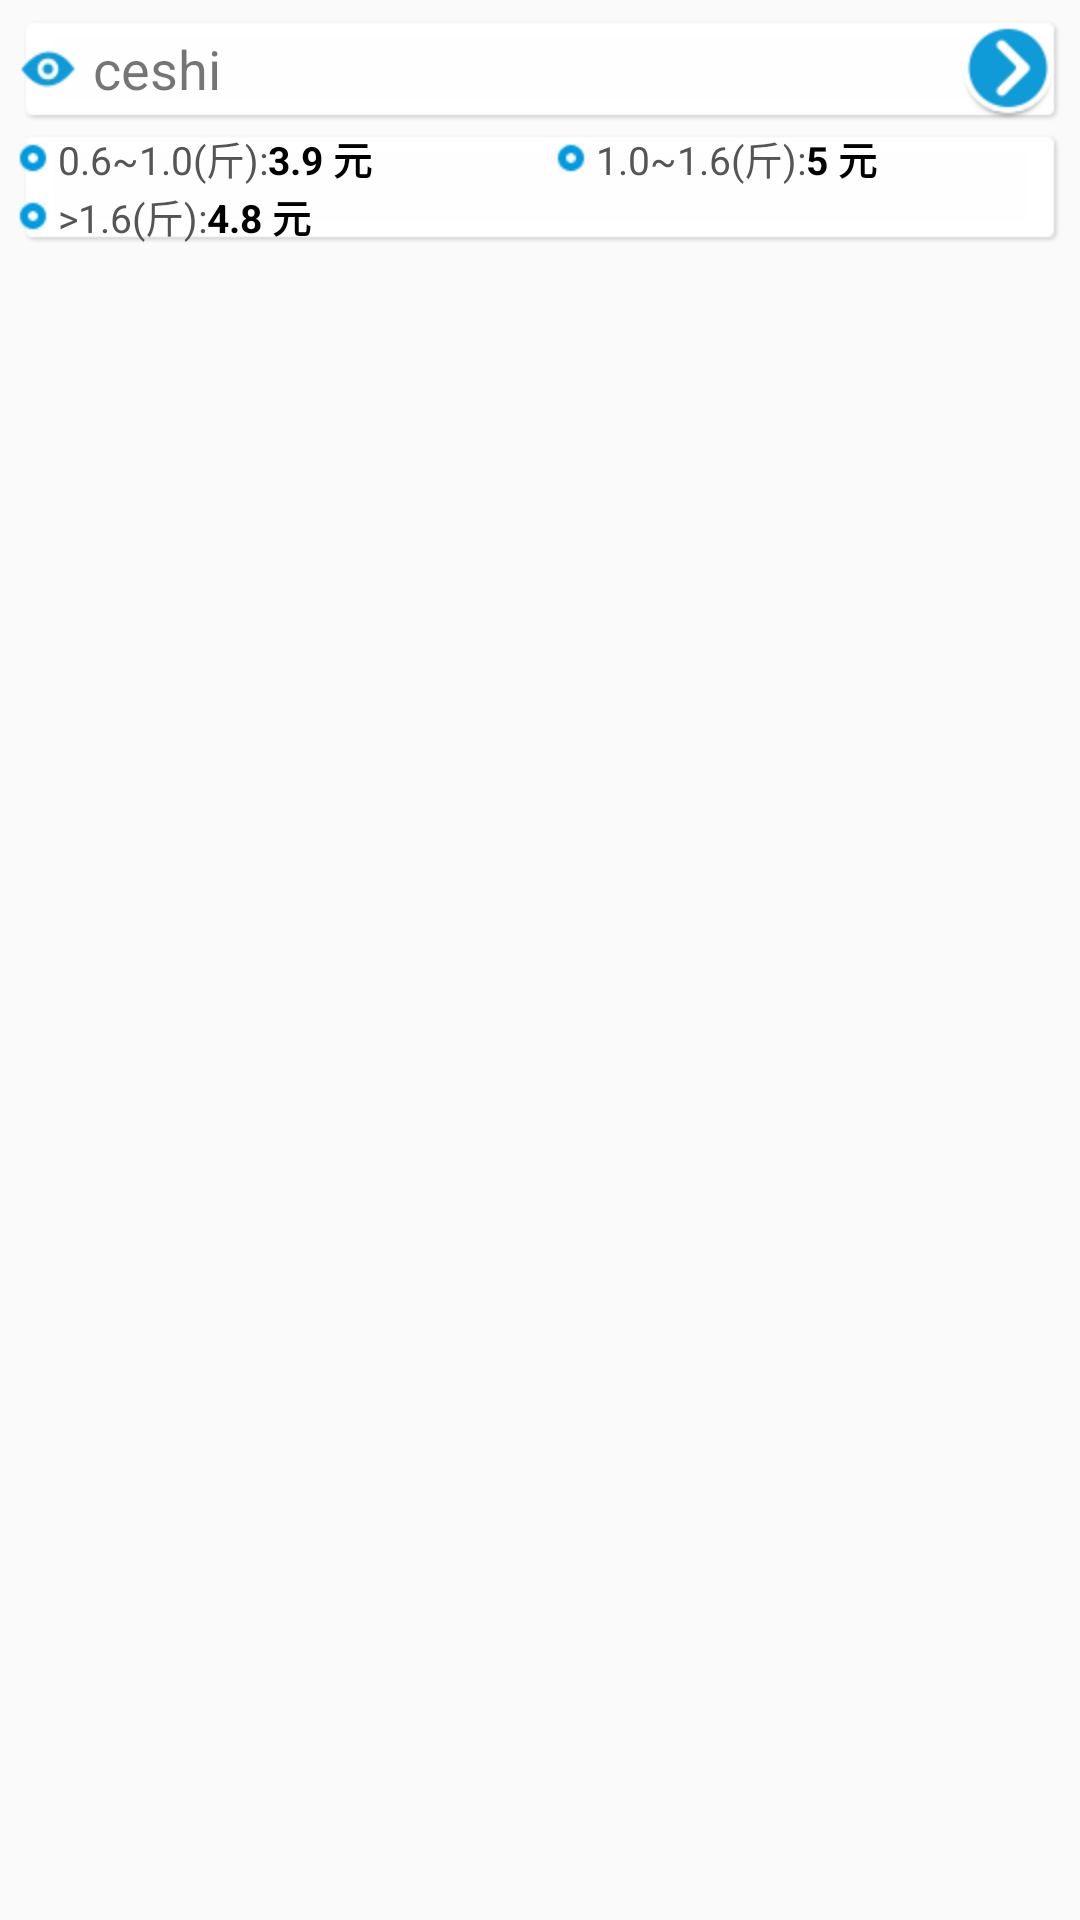

Where to tap for icons on this 1080 × 1920 app screen, as [x,y]:
circle: [33,158], [571,158], [33,216]
goto ini: [1008,68]
monitor: [48,69]
